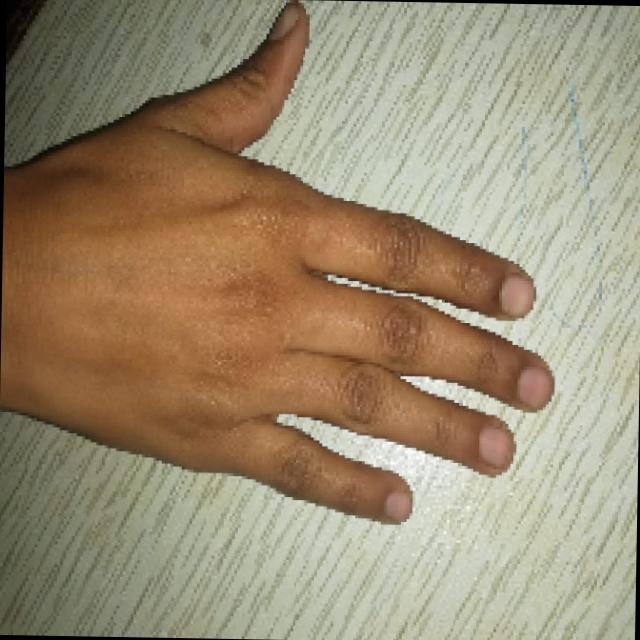Nail: (477, 425, 513, 467), (516, 366, 551, 409), (500, 275, 533, 314), (266, 3, 298, 39), (384, 491, 410, 521)
